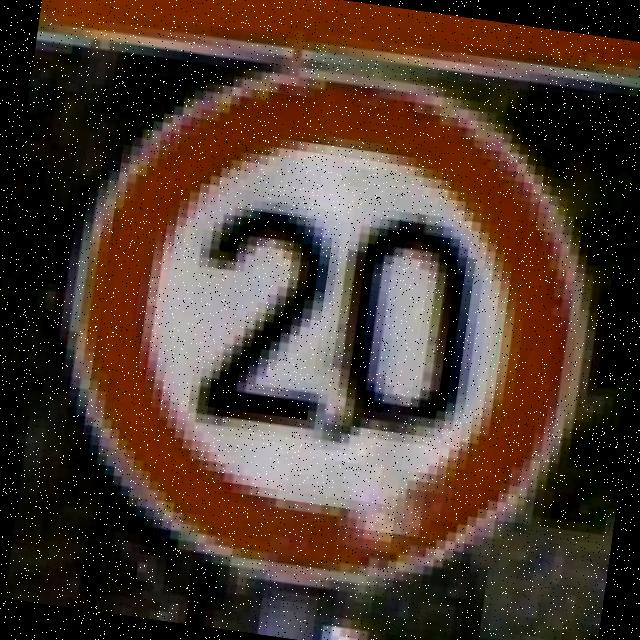Ograniczenie predkosci do 20: (9, 19, 640, 634)
